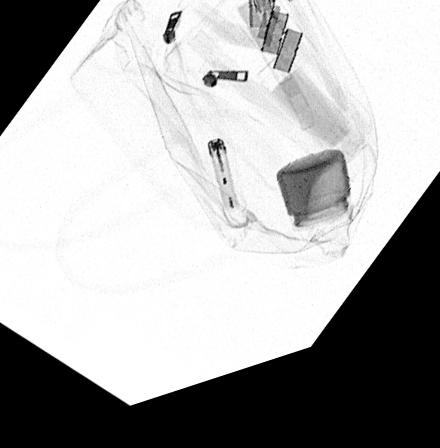Lighter: (206, 151, 239, 227)
